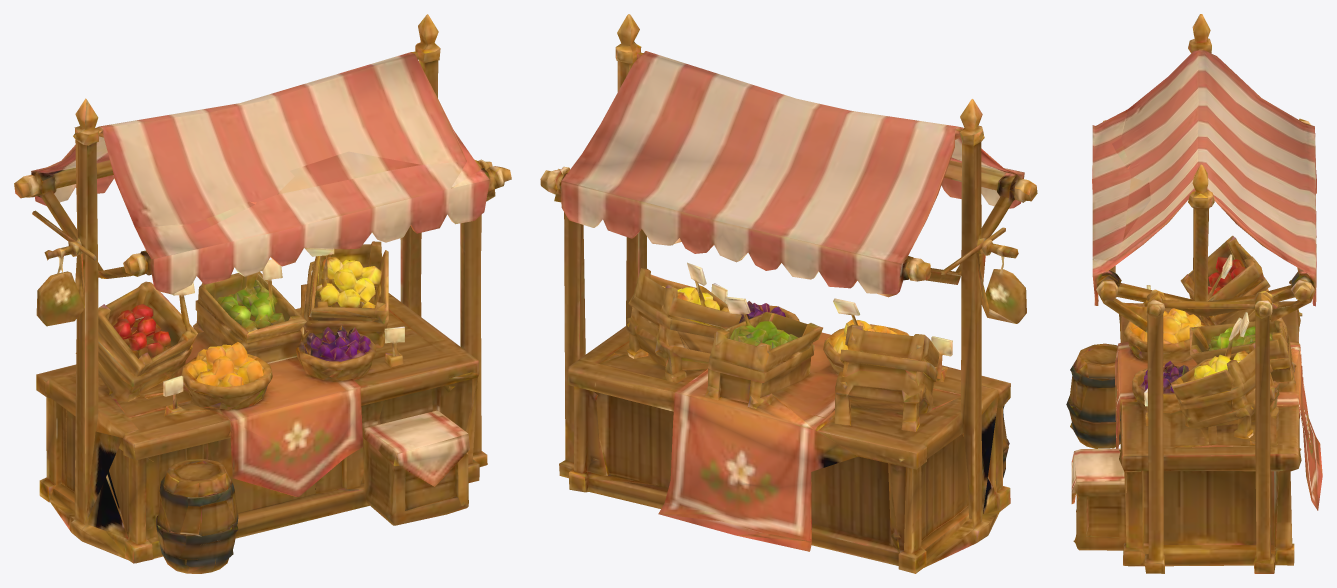
The model's file is market-stall.glb.
The picture shows the model from 3 angles, left to right: view 1: azimuth 30°, elevation 25°; view 2: azimuth 150°, elevation 25°; view 3: azimuth 270°, elevation 25°; orthographic projection. The views are drawn at different scales.
Visible parts, largest first — view 1: Mesh1.0; view 2: Mesh1.0; view 3: Mesh1.0.
Part boxes in pixels (box(x1,y1,x2,y2)): Mesh1.0: box(14, 14, 511, 573); Mesh1.0: box(540, 14, 1037, 573); Mesh1.0: box(1066, 14, 1322, 573).
Size of the model in its own units: 1.89 by 1.85 by 1.07.
Materials: 1 (1 with a texture image).
